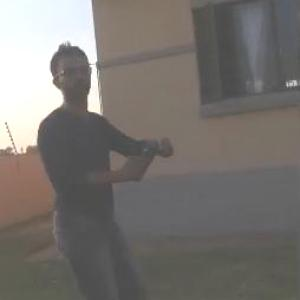follow: (35, 33, 181, 299)
